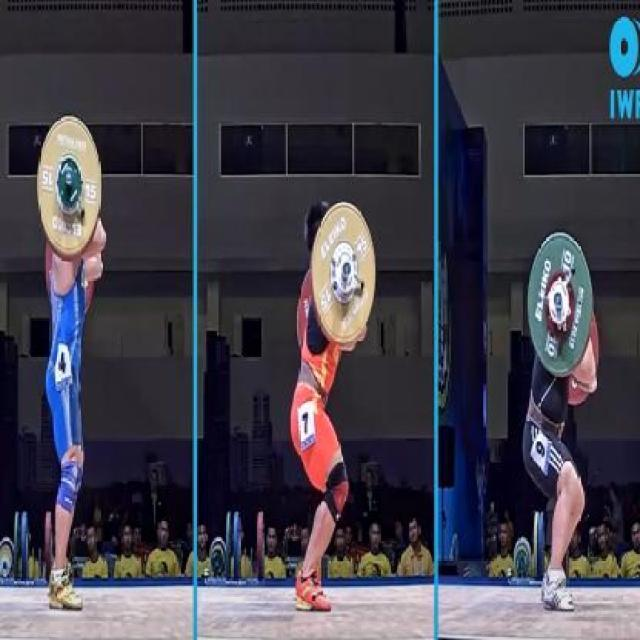barbell: (526, 227, 598, 390), (312, 196, 381, 357), (36, 110, 105, 264)
